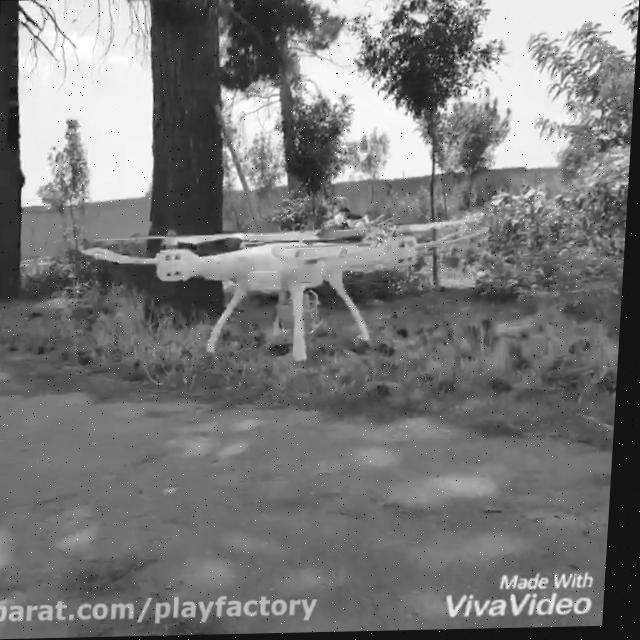drone: (76, 206, 491, 365)
